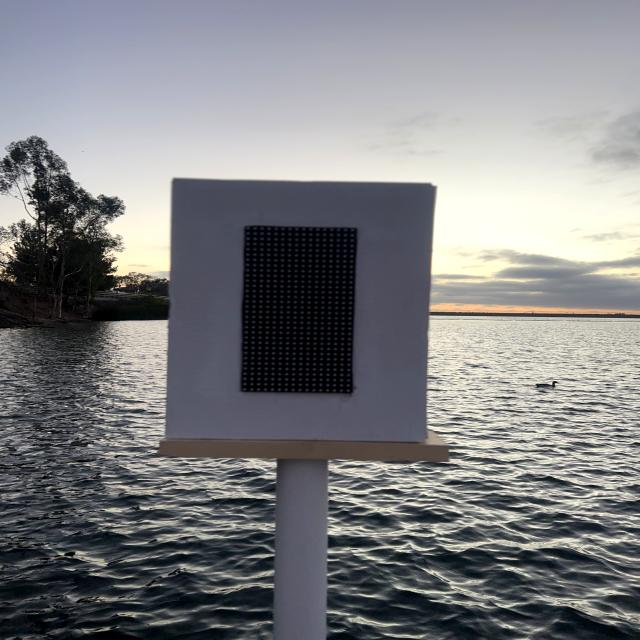led: (202, 197, 399, 423)
